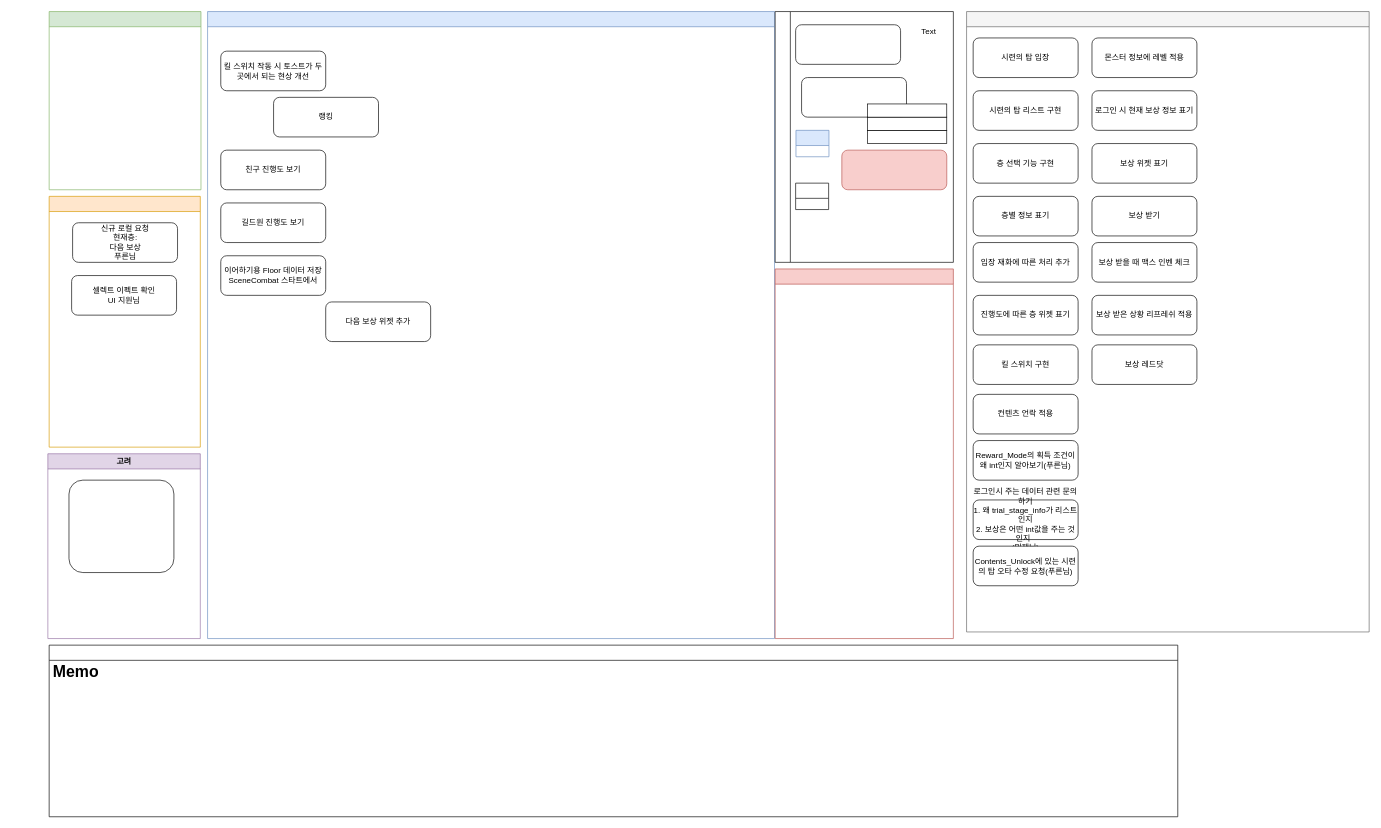
Image size: 1381x828. Some labels were removed from this diagram. Here are the shapes that lost their labels. From the top down, the box of each, then its label:
(49, 11, 201, 190): 분석 | 논의
(775, 11, 953, 262): Preset
(49, 196, 200, 447): 대기 | 요청
(207, 11, 775, 639): 구현
(966, 11, 1369, 632): 폐기 | 완료
(775, 268, 953, 639): 에러 | 수정
(68, 479, 174, 573): 행동력 할인 어디서 처리되는지 확인할 것 UPV_ChallengeUtil::SetCurrencyStamina
(49, 644, 1178, 817): My Comment
